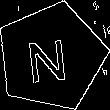N_N: (28, 30, 74, 84)
